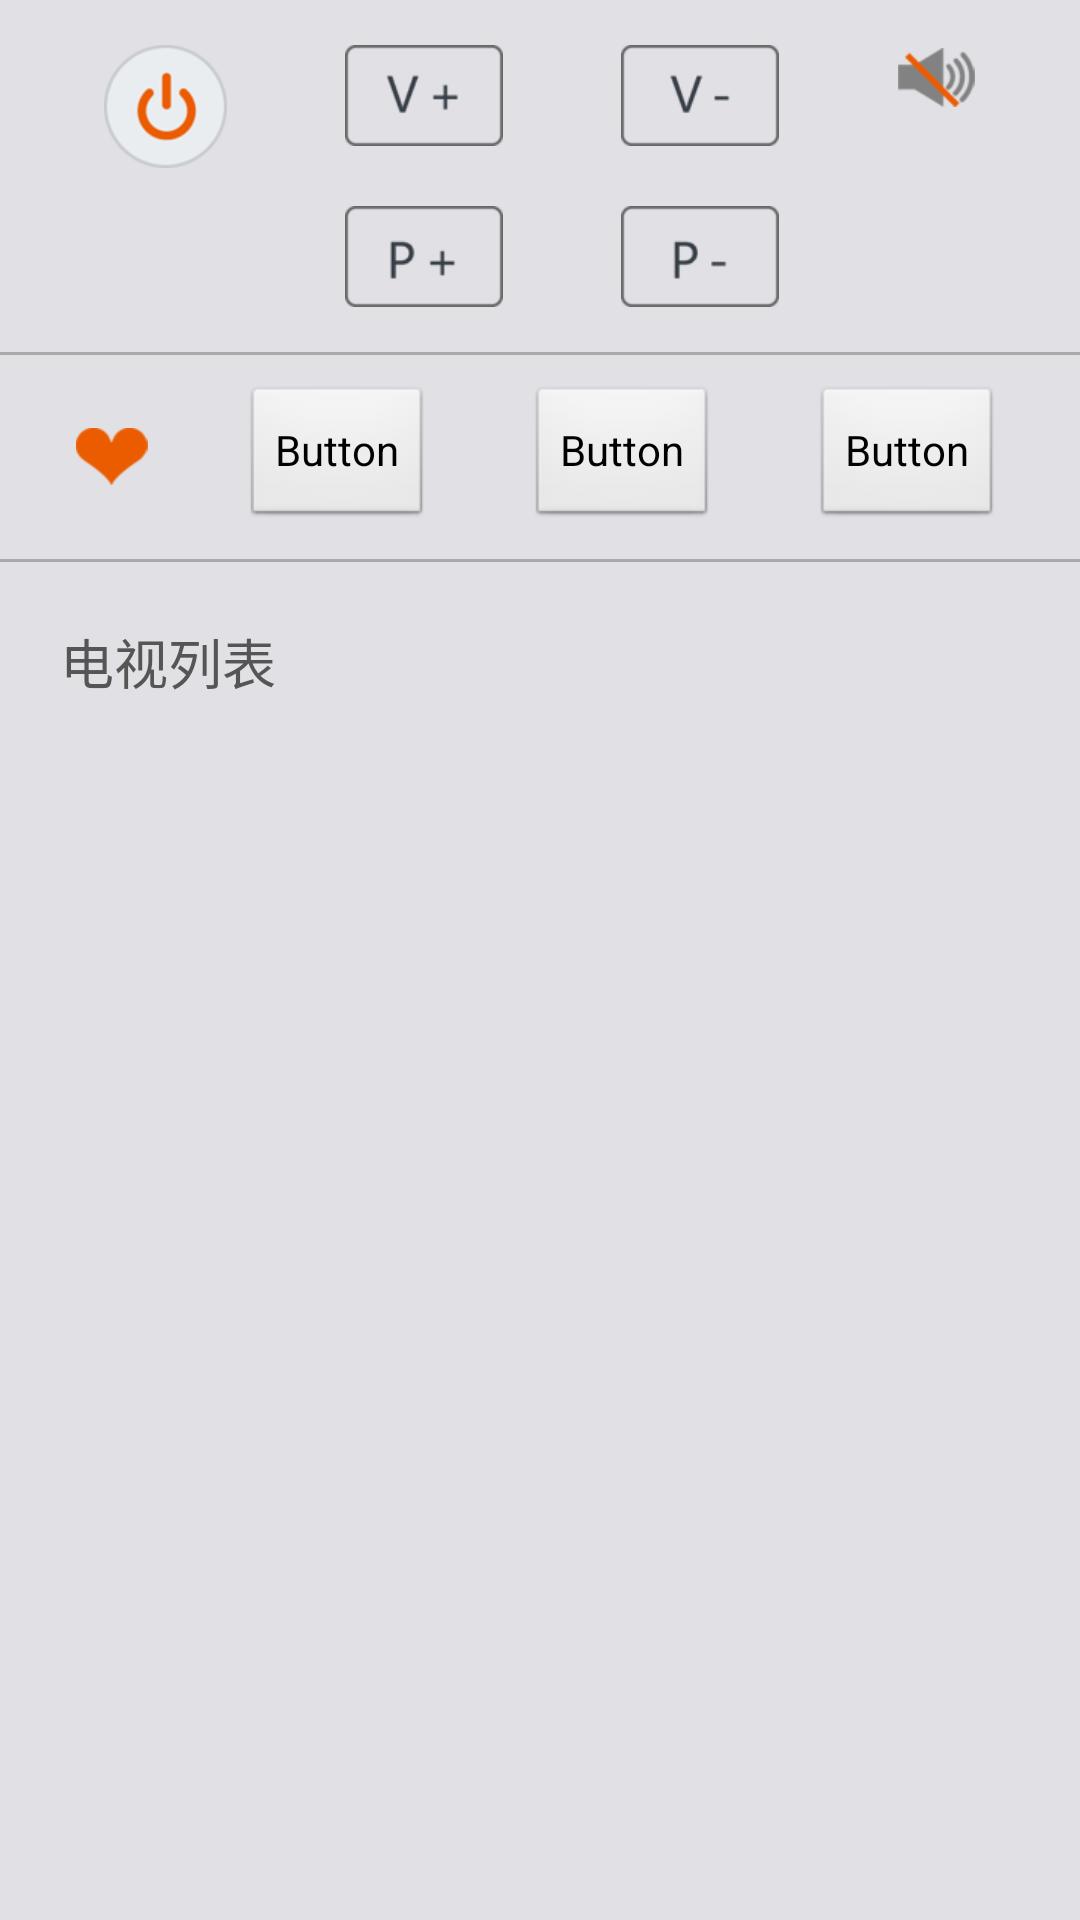

Where icons sit on this 1080px x 1920px app screen, as (x1, y1, x2, y2):
select tv mute: (898, 48, 975, 107)
